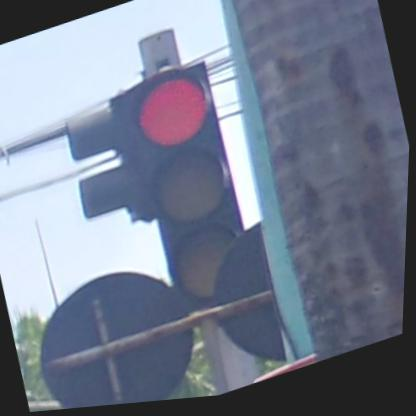red: (118, 60, 266, 320)
